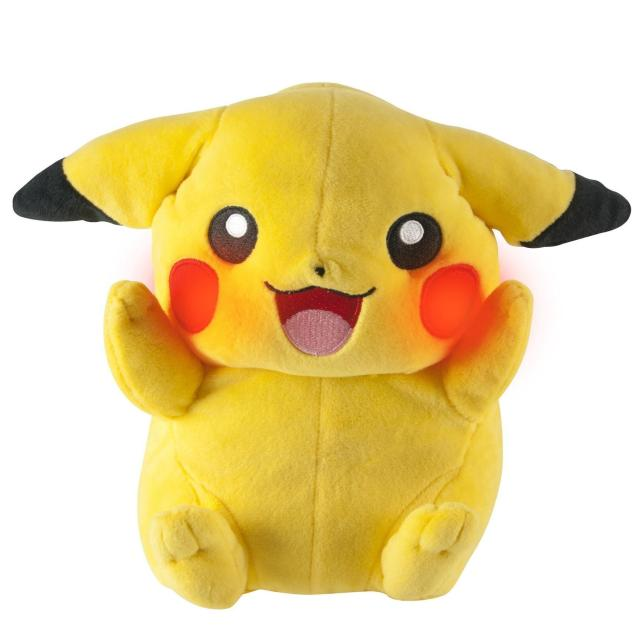pikachu: (10, 82, 628, 608)
